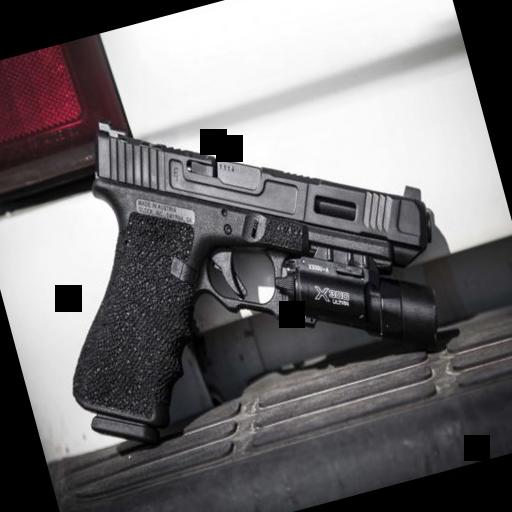Handgun: (1, 32, 471, 462)
